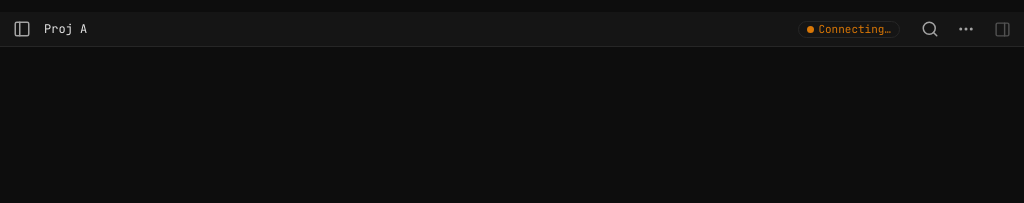
Scenario: TopBar - canvas mode pane toggles › disables the split-orientation and terminal-dock buttons in canvas mode
Step 1. Click the button named "More options" → click(966, 28), box top-left (952, 14), bottom-right (980, 42)
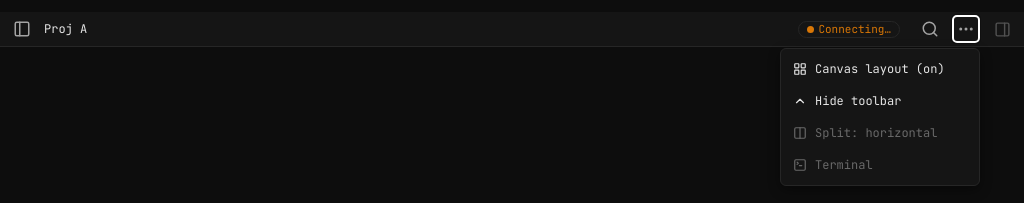
Result: the menu item "Split: horizontal" is disabled at top-left (781, 116), bottom-right (979, 148)
Result: the menu item "Terminal" is disabled at top-left (781, 148), bottom-right (979, 180)
